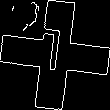L_S: (37, 28, 73, 82)
